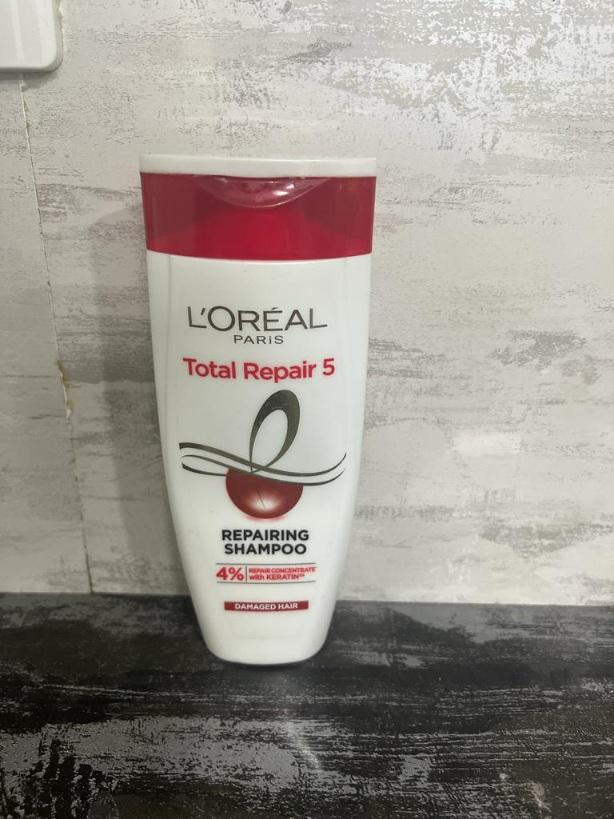Loreal: (118, 143, 408, 666)
